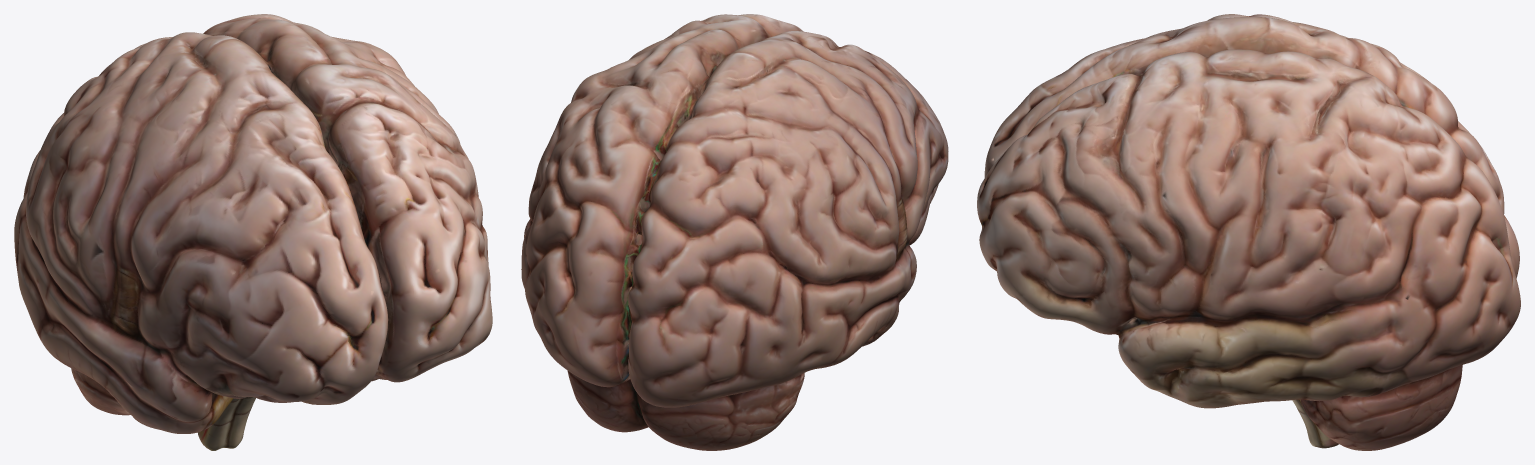
Rendered from Cerebro.glb.
3 renders of one model, left to right at view 1: azimuth 30°, elevation 25°; view 2: azimuth 150°, elevation 25°; view 3: azimuth 270°, elevation 25°, orthographic. The views are drawn at different scales.
Parts seen in each view (by area): view 1: Mesh_0; view 2: Mesh_0; view 3: Mesh_0.
Part boxes in pixels (x1,y1,x2,y2): Mesh_0: (14,14,492,450); Mesh_0: (521,14,948,450); Mesh_0: (977,14,1520,450).
Size of the model in its own units: 1.51 by 1.67 by 2.
Materials: 1 (1 with a texture image).
